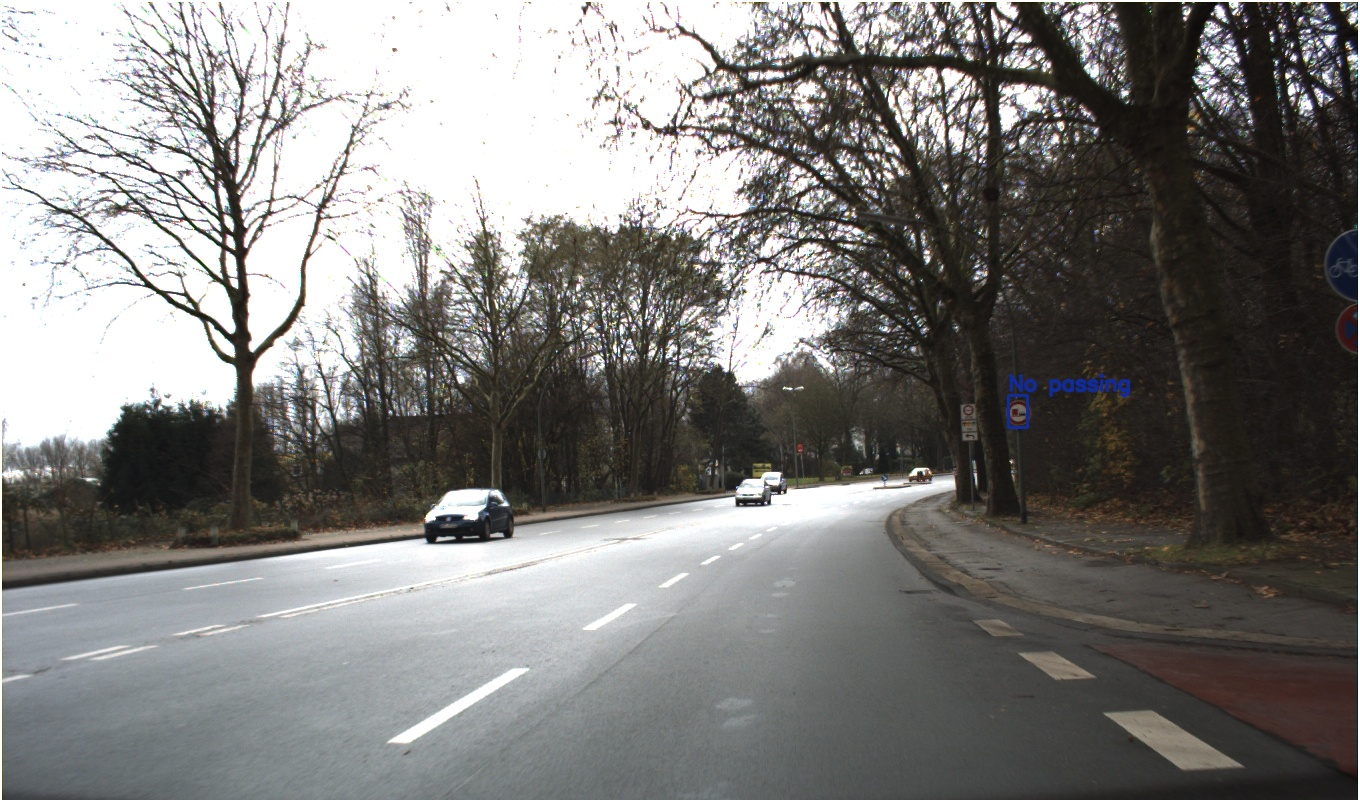General caution: (242, 450, 293, 501)
